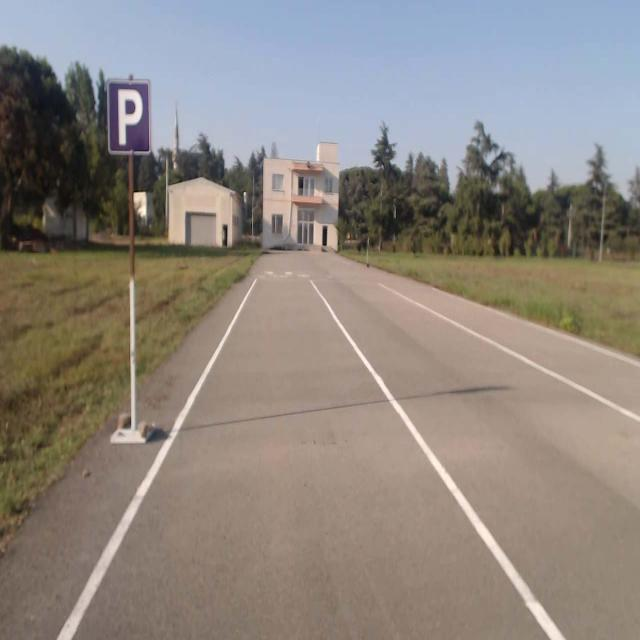park: (106, 79, 150, 156)
